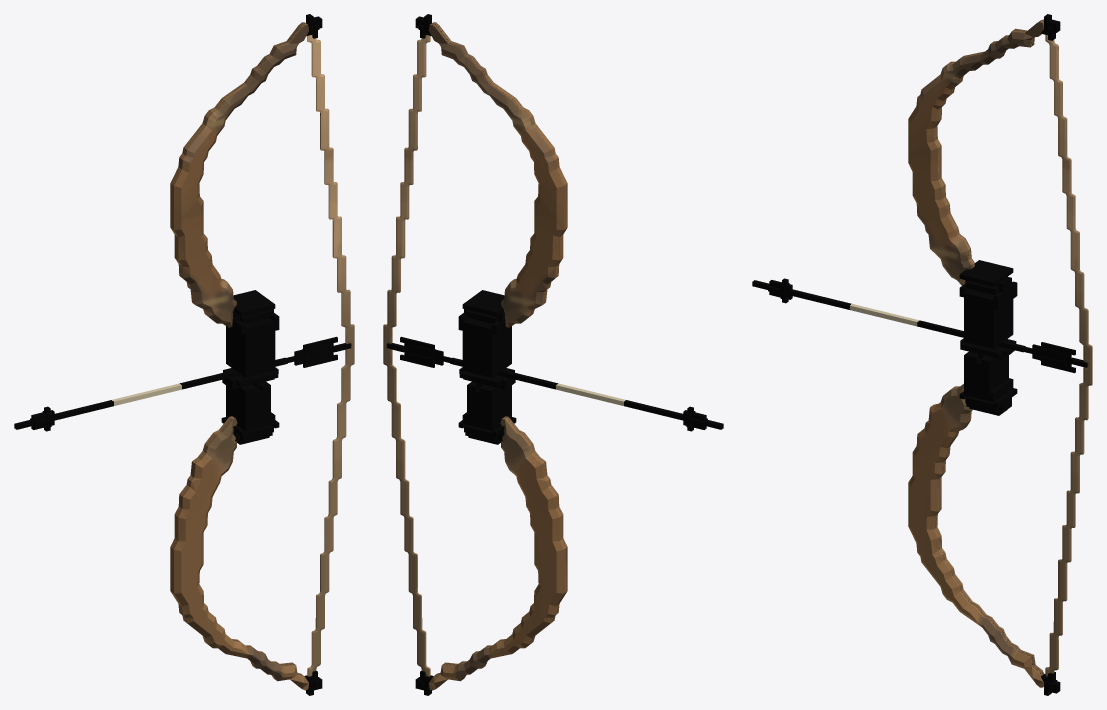
Rendered from bow_pulling_0.obj.
3 renders of one model, left to right at view 1: azimuth 30°, elevation 25°; view 2: azimuth 150°, elevation 25°; view 3: azimuth 330°, elevation 25°, orthographic.
Visible parts, largest first — view 1: bow_pulling_0; view 2: bow_pulling_0; view 3: bow_pulling_0.
Part boxes in pixels (left/top/right/bottom): bow_pulling_0: left=14, top=14, right=354, bottom=695; bow_pulling_0: left=383, top=14, right=723, bottom=695; bow_pulling_0: left=752, top=14, right=1092, bottom=695.
Bounding box in the file's own units: 0.8333 × 1.59 × 0.0833.
